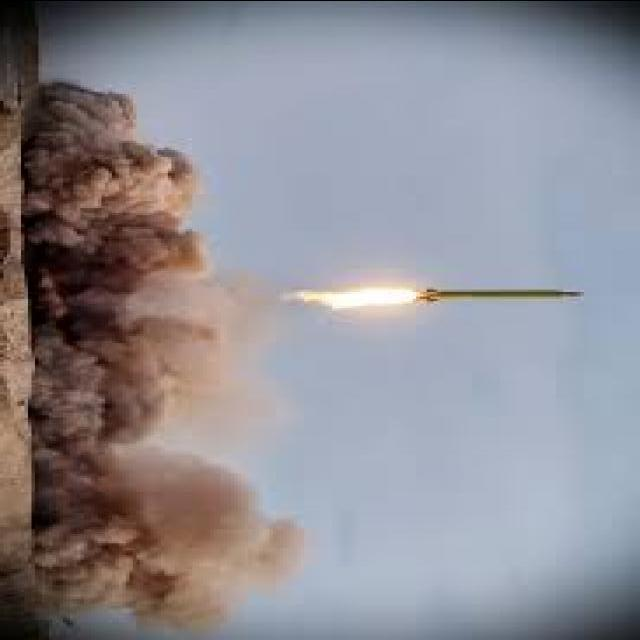missile: (417, 284, 582, 309)
